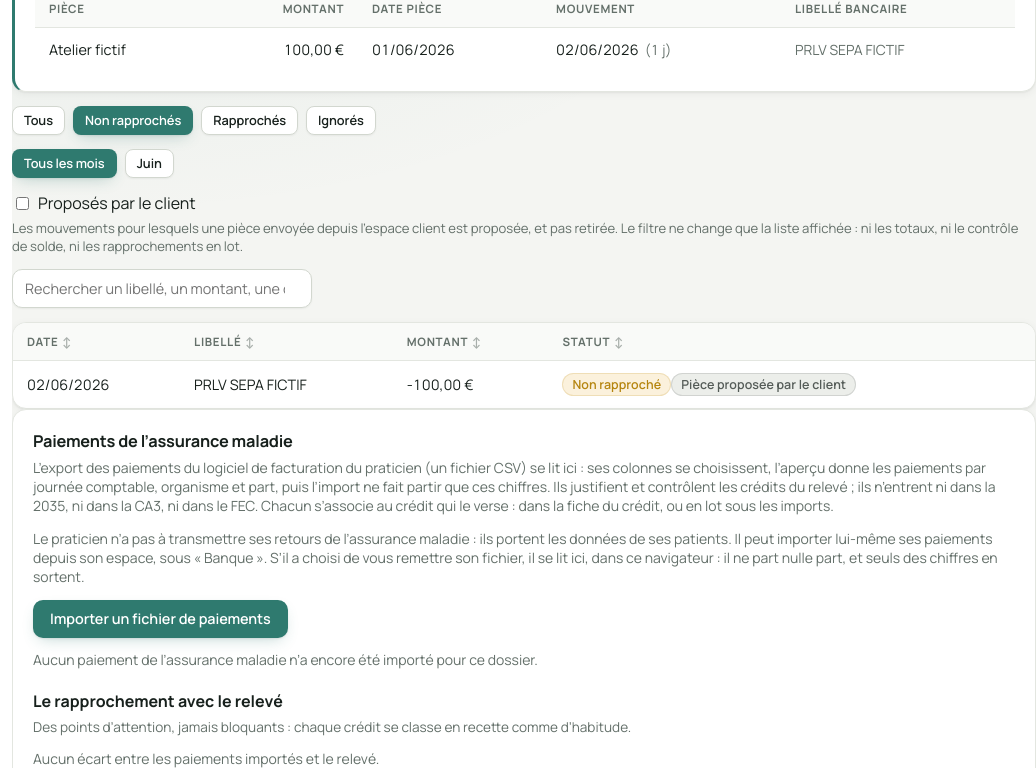
Test: « Écarter cette proposition » : offert sur la pièce proposée par le client › refusée par la base : dit avec les mots de la base, et la fiche est relue (la proposition déjà retirée disparaît)
The width and height of the screenshot is (1036, 768).
(page scrolled)
Click the text "PRLV SEPA FICTIF" in the row of "Pièce proposée par le client": {"x": 286, "y": 384} [180,360,393,408]
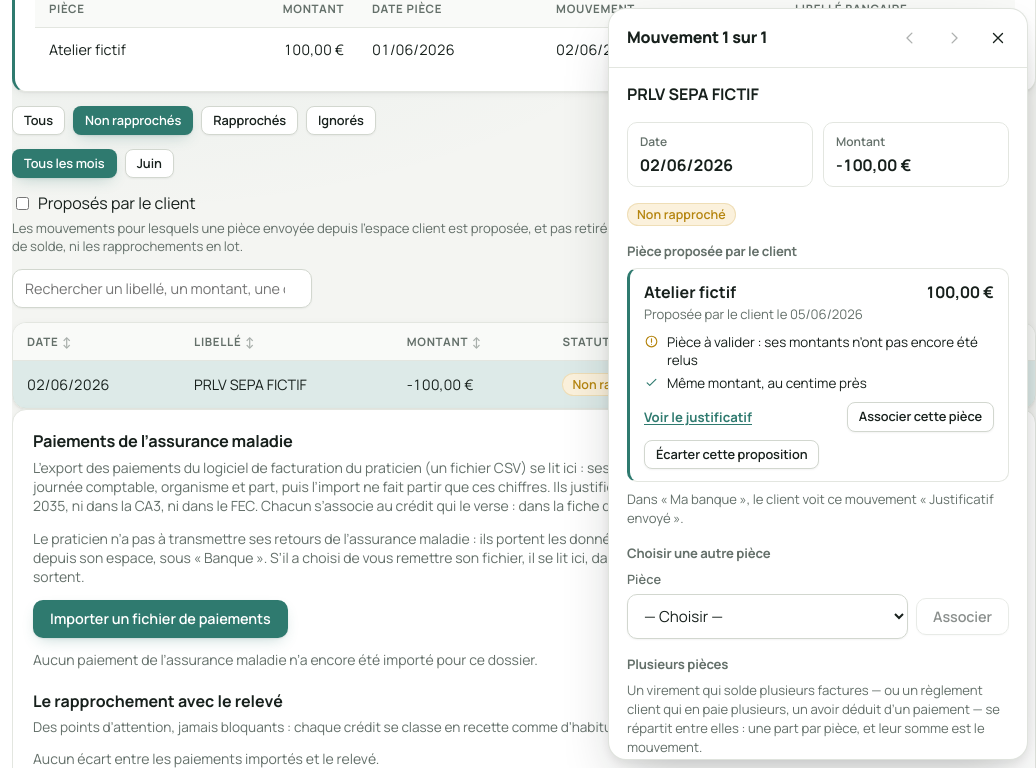
Click the button "Écarter cette proposition": {"x": 732, "y": 454} [644,440,819,469]
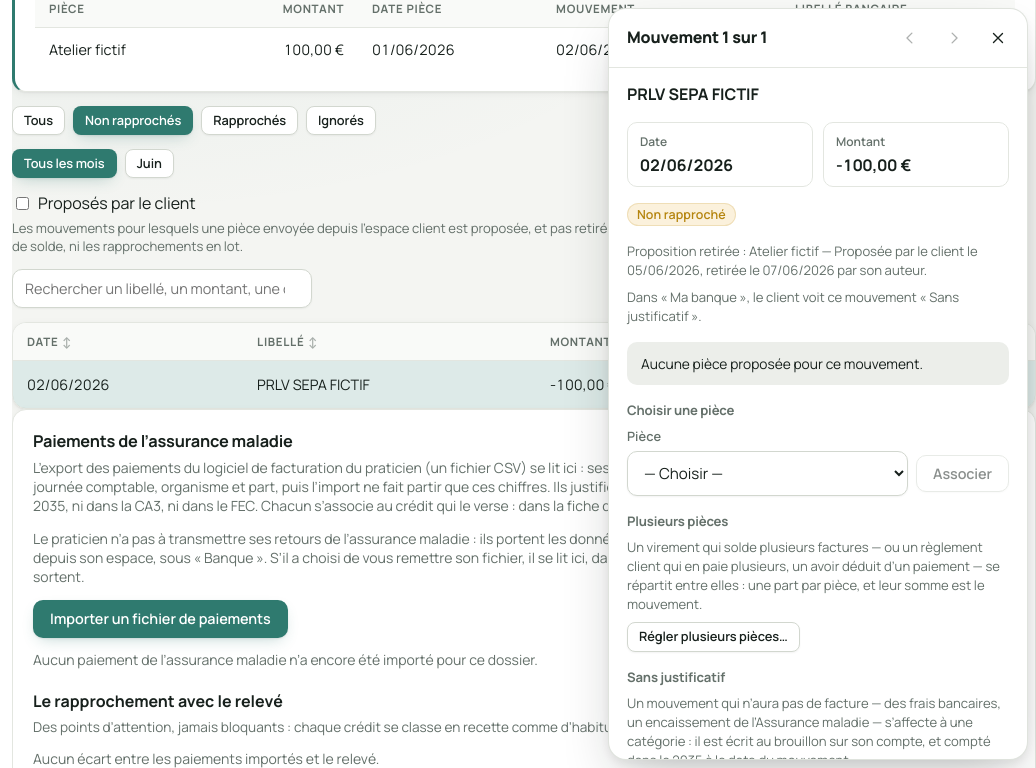
Expected: the button "Écarter cette proposition" is gone
Expected: the text "Proposition retirée :" is shown, [627,242,1009,280]
